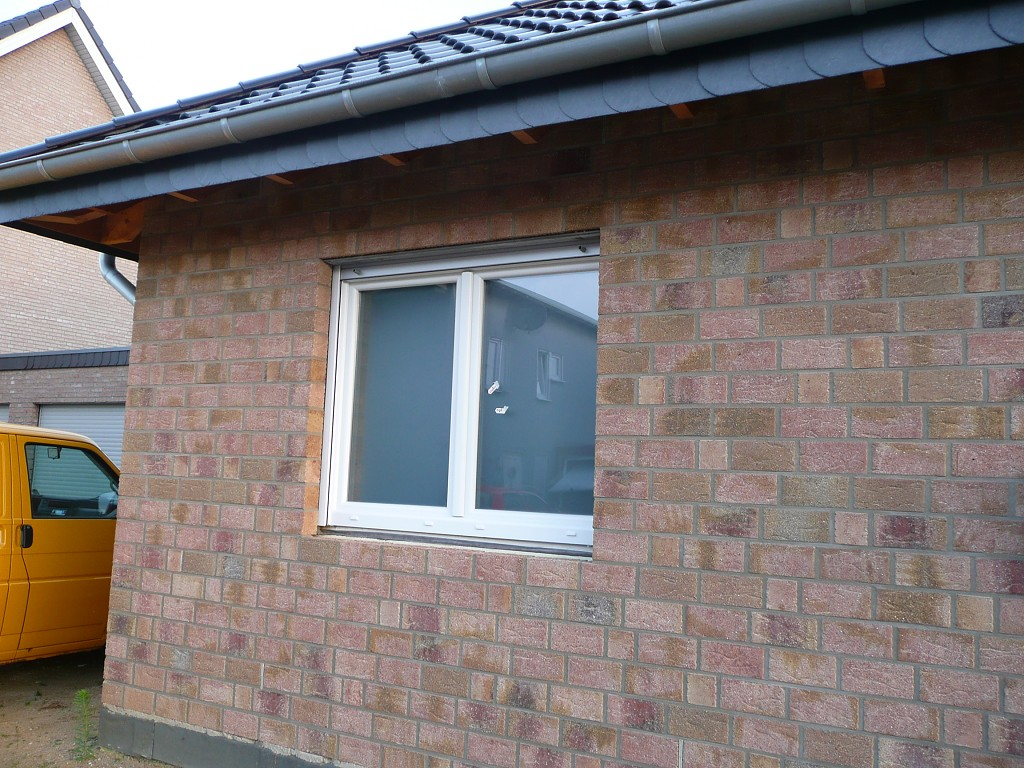windows: (328, 259, 619, 578)
